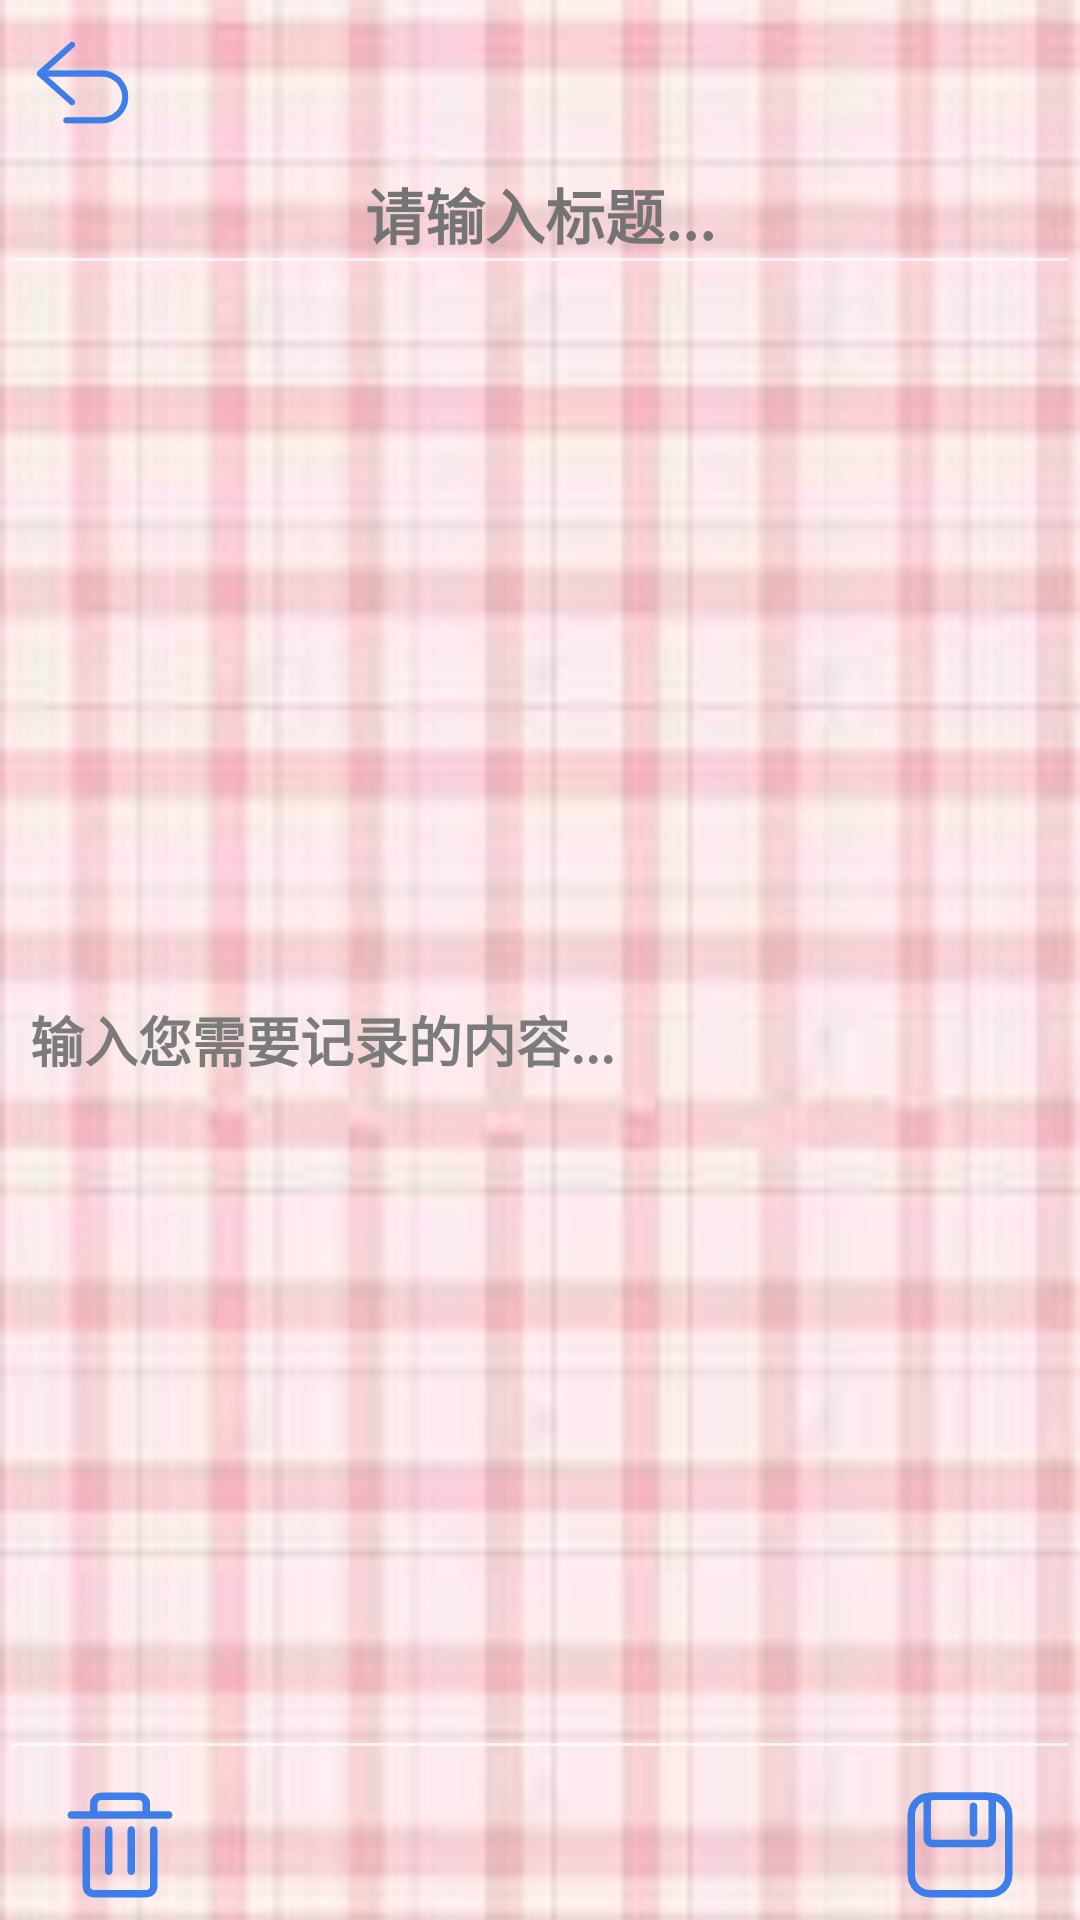

Where to tap for icons on this 1080*1920 app screen, as (x,y):
back: (82,82)
delete: (120,1845)
save: (960,1845)
